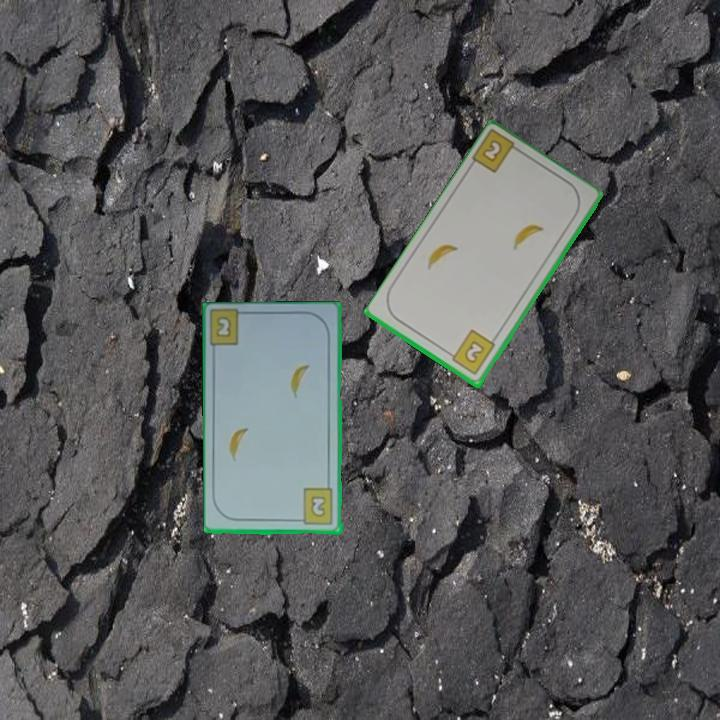2b: (444, 327, 498, 378), (294, 486, 336, 528), (479, 136, 505, 165), (213, 313, 234, 340)
